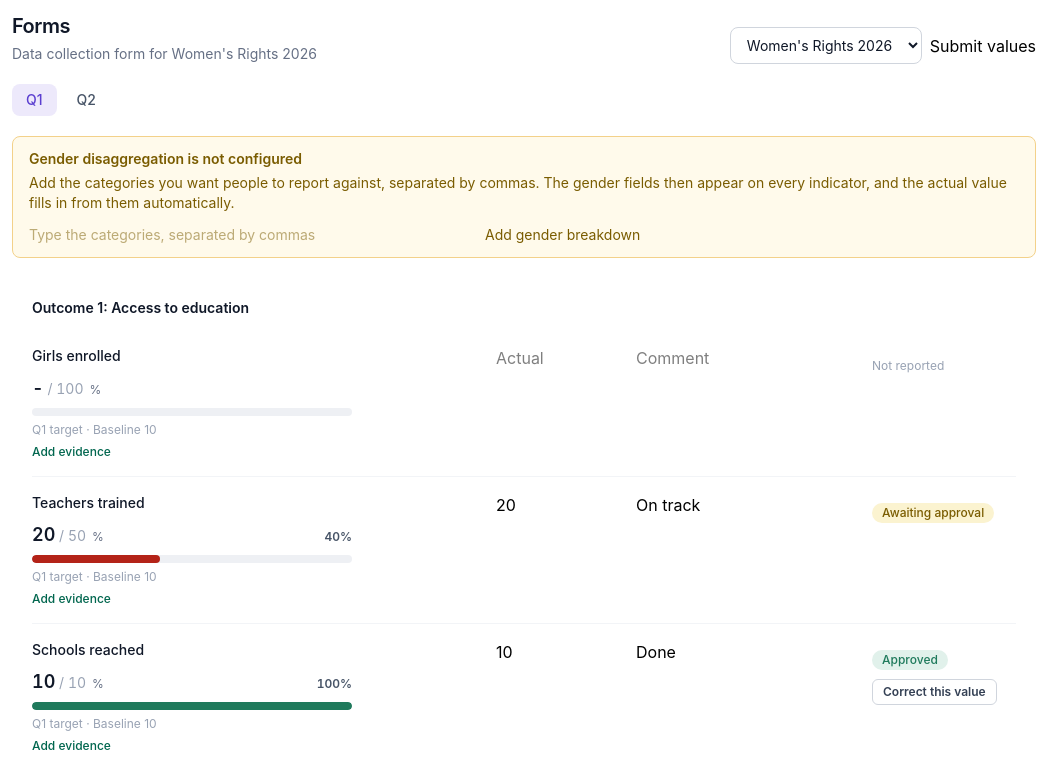
MEForms: submitting › clears the drafts after a successful submit
The width and height of the screenshot is (1048, 780).
In the number field with placeholder "Actual": [560, 358] box left=496, top=346, right=624, bottom=370, type "80"
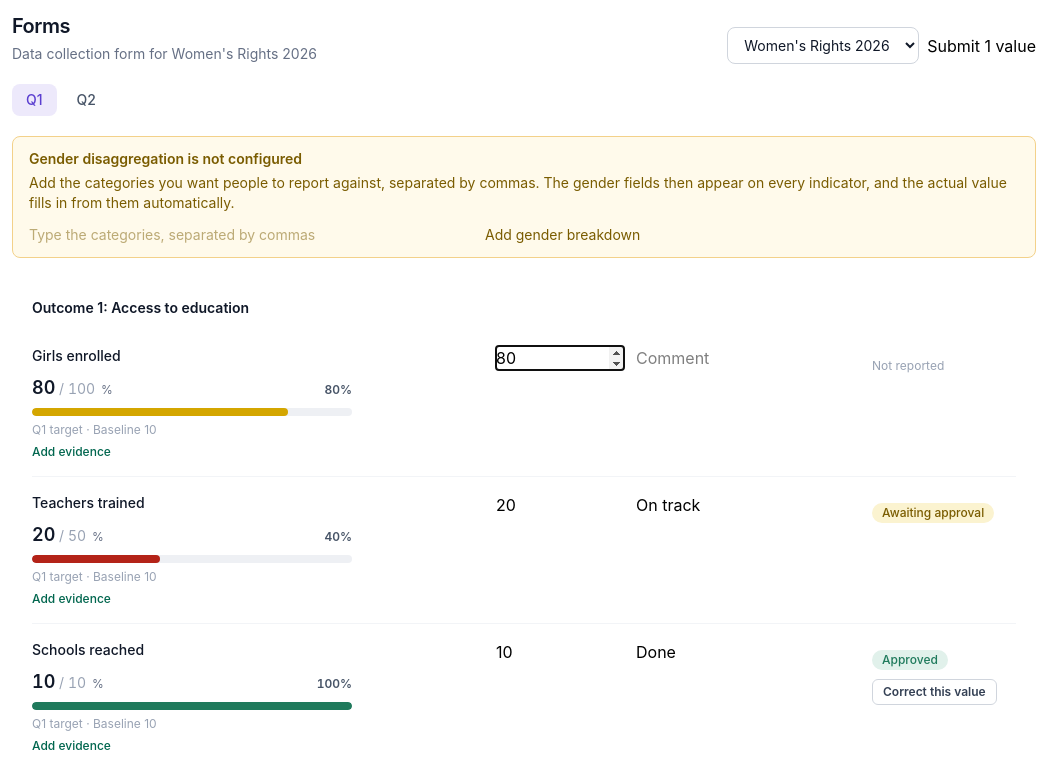
Click the button "Submit 1 value": [982, 46] box left=927, top=34, right=1036, bottom=58
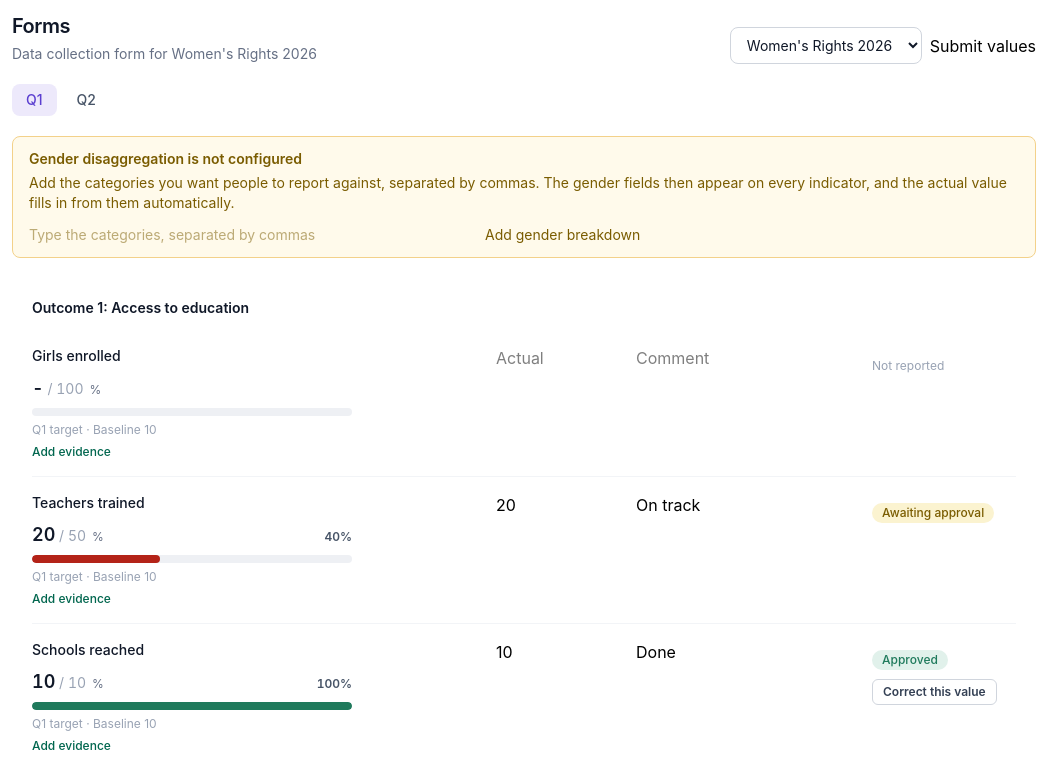
Now the button "Submit values" is disabled, box left=930, top=34, right=1036, bottom=58
